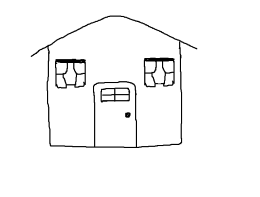door: (90, 78, 140, 151)
open_window: (52, 55, 92, 91), (140, 54, 175, 89)
single_line_roof: (32, 15, 197, 58)
wall: (44, 41, 184, 151)
